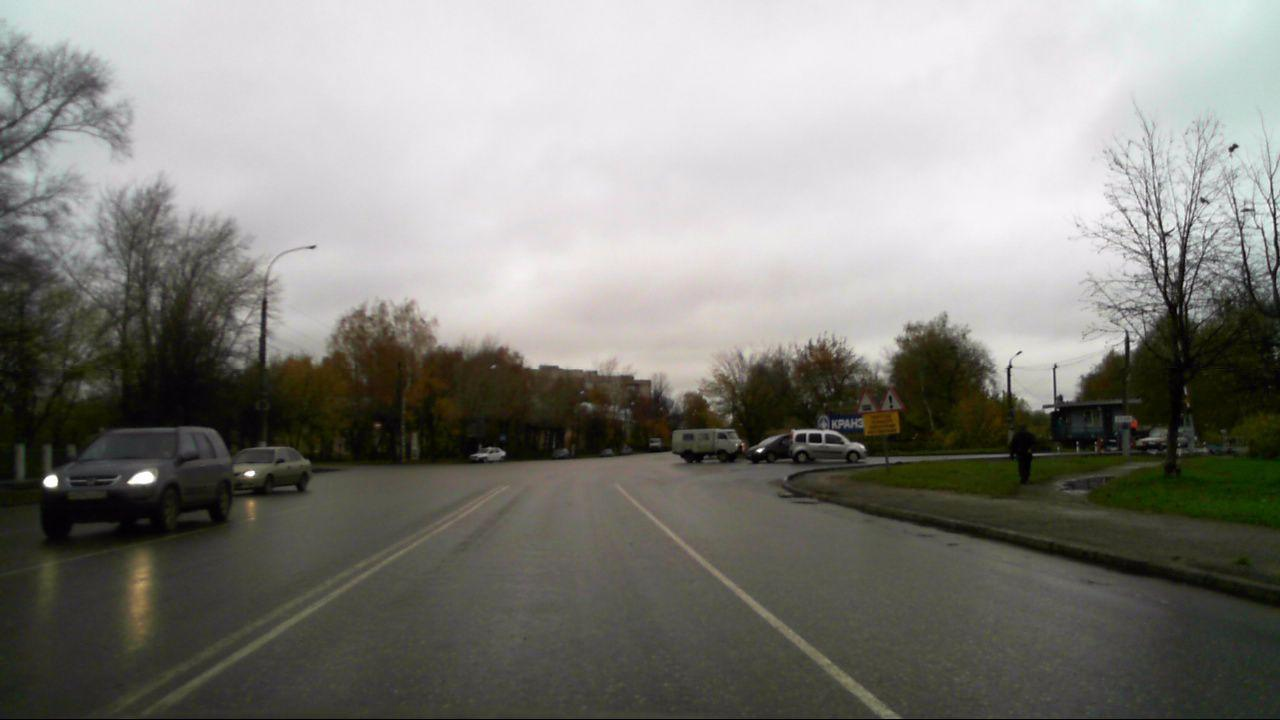1_1: (855, 390, 878, 414)
1_33: (881, 389, 904, 410)
